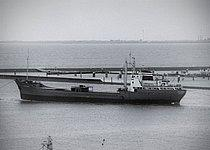Ship: (11, 70, 192, 109)
